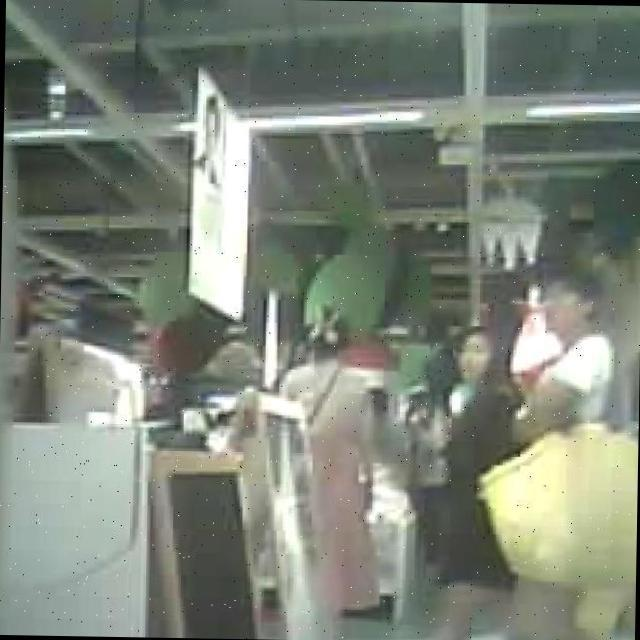person: (412, 321, 531, 640), (270, 309, 380, 640), (507, 262, 617, 444)
